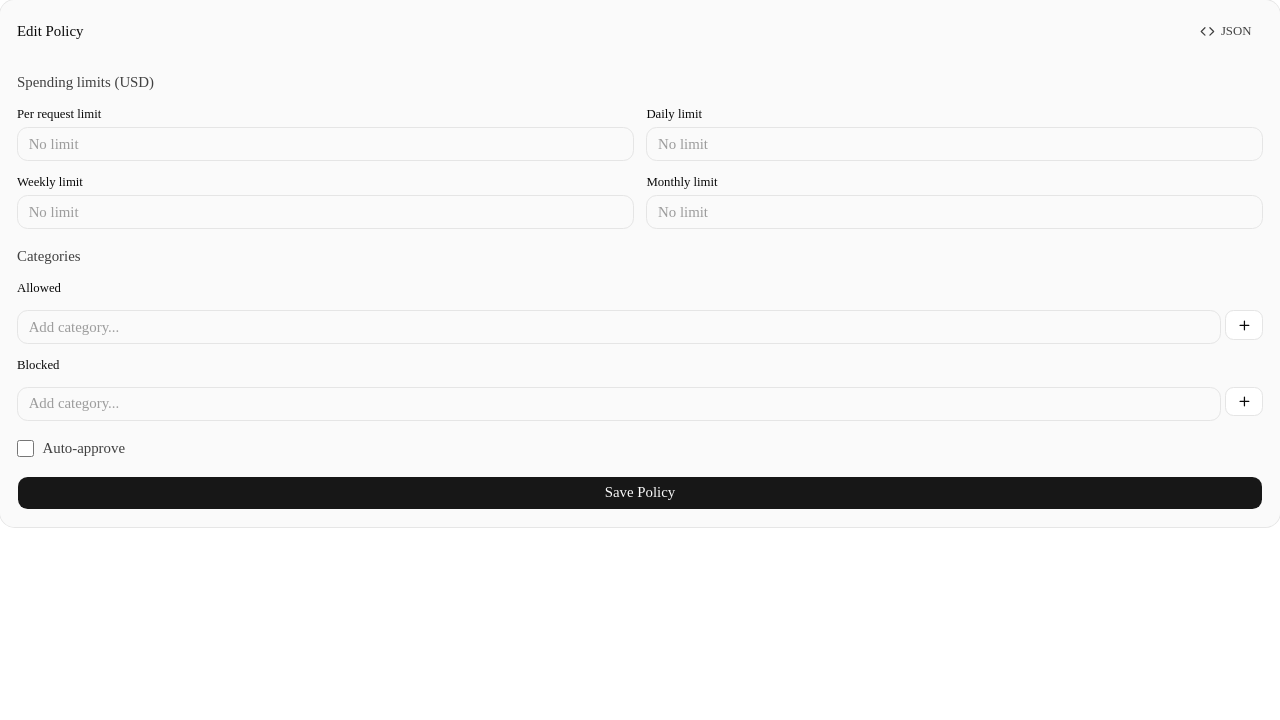
PolicyEditor › shows max amount input when auto-approve is checked
What coordinates should you click on to do the following:
click the checkbox labelled "Auto-approve"
I would click on:
 (26, 448)
Its box is [17, 440, 34, 457].
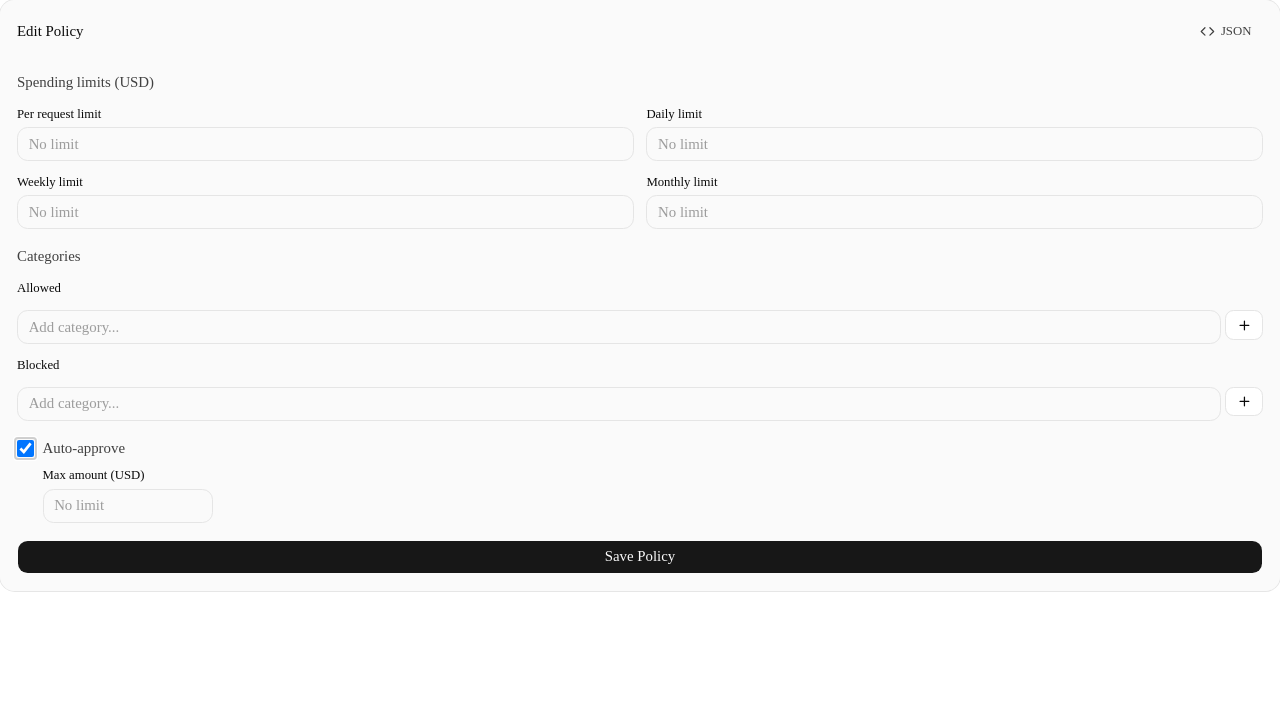
Expected: the text "Max amount (USD)" is shown, [42, 468, 144, 482]
